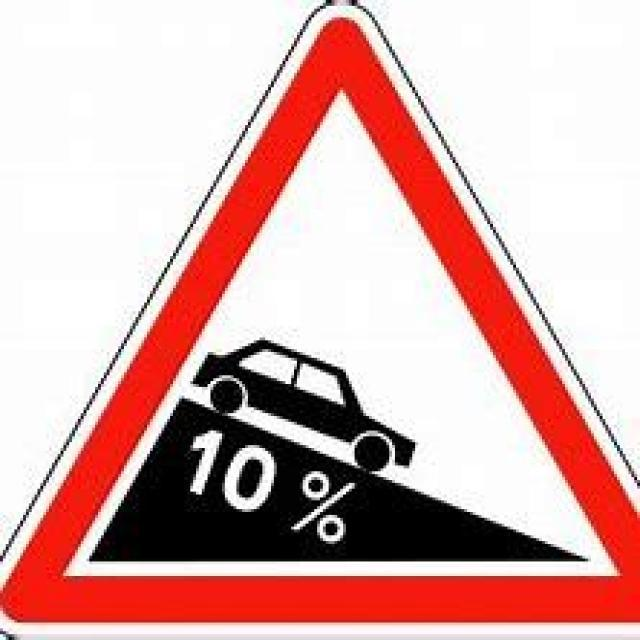steep descent: (17, 17, 627, 622)
